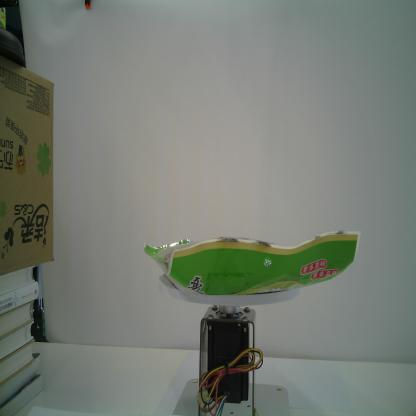Dried Food: (143, 229, 360, 295)
